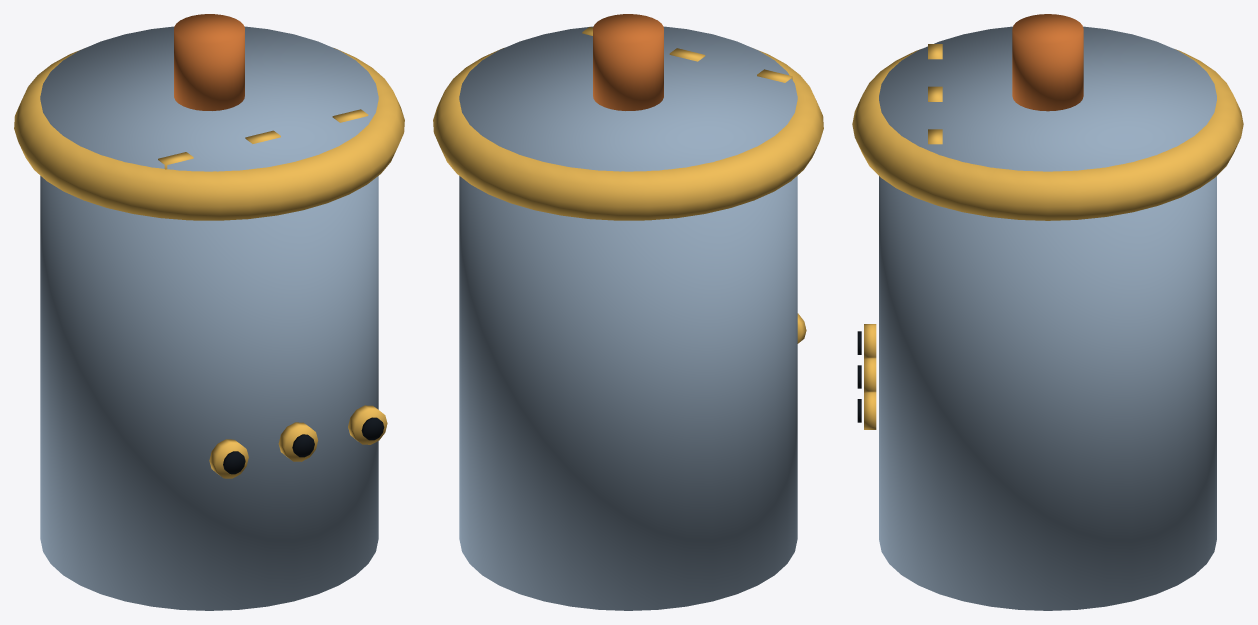
File: 66_L93_VolatileCollectionReservoir.fbx
3 views of the same model, side by side, from view 1: azimuth 30°, elevation 25°; view 2: azimuth 150°, elevation 25°; view 3: azimuth 270°, elevation 25° (orthographic).
Parts seen in each view (by area): view 1: L92_VolatileCollectionReservoir_Part_0000, L92_VolatileCollectionReservoir_Part_0001, L92_VolatileCollectionReservoir_Part_0002, L92_VolatileCollectionReservoir_Part_0003, L92_VolatileCollectionReservoir_Part_0004, L92_VolatileCollectionReservoir_Part_0006, L92_VolatileCollectionReservoir_Part_0008; view 2: L92_VolatileCollectionReservoir_Part_0000, L92_VolatileCollectionReservoir_Part_0001, L92_VolatileCollectionReservoir_Part_0002, L92_VolatileCollectionReservoir_Part_0003; view 3: L92_VolatileCollectionReservoir_Part_0000, L92_VolatileCollectionReservoir_Part_0001, L92_VolatileCollectionReservoir_Part_0002, L92_VolatileCollectionReservoir_Part_0003.
Boxes of the visible parts, <box> form: L92_VolatileCollectionReservoir_Part_0000: <box>40,26,378,610</box>; L92_VolatileCollectionReservoir_Part_0001: <box>14,48,404,220</box>; L92_VolatileCollectionReservoir_Part_0002: <box>174,14,244,110</box>; L92_VolatileCollectionReservoir_Part_0003: <box>158,109,368,169</box>; L92_VolatileCollectionReservoir_Part_0004: <box>209,439,248,478</box>; L92_VolatileCollectionReservoir_Part_0006: <box>278,422,318,461</box>; L92_VolatileCollectionReservoir_Part_0008: <box>348,405,387,444</box>; L92_VolatileCollectionReservoir_Part_0000: <box>459,26,797,610</box>; L92_VolatileCollectionReservoir_Part_0001: <box>433,48,823,220</box>; L92_VolatileCollectionReservoir_Part_0002: <box>593,14,663,110</box>; L92_VolatileCollectionReservoir_Part_0003: <box>582,27,792,82</box>; L92_VolatileCollectionReservoir_Part_0000: <box>879,26,1216,610</box>; L92_VolatileCollectionReservoir_Part_0001: <box>852,49,1243,220</box>; L92_VolatileCollectionReservoir_Part_0002: <box>1012,14,1083,111</box>; L92_VolatileCollectionReservoir_Part_0003: <box>928,44,942,144</box>.
Bounding box in the file's own units: 132 × 190 × 132.
